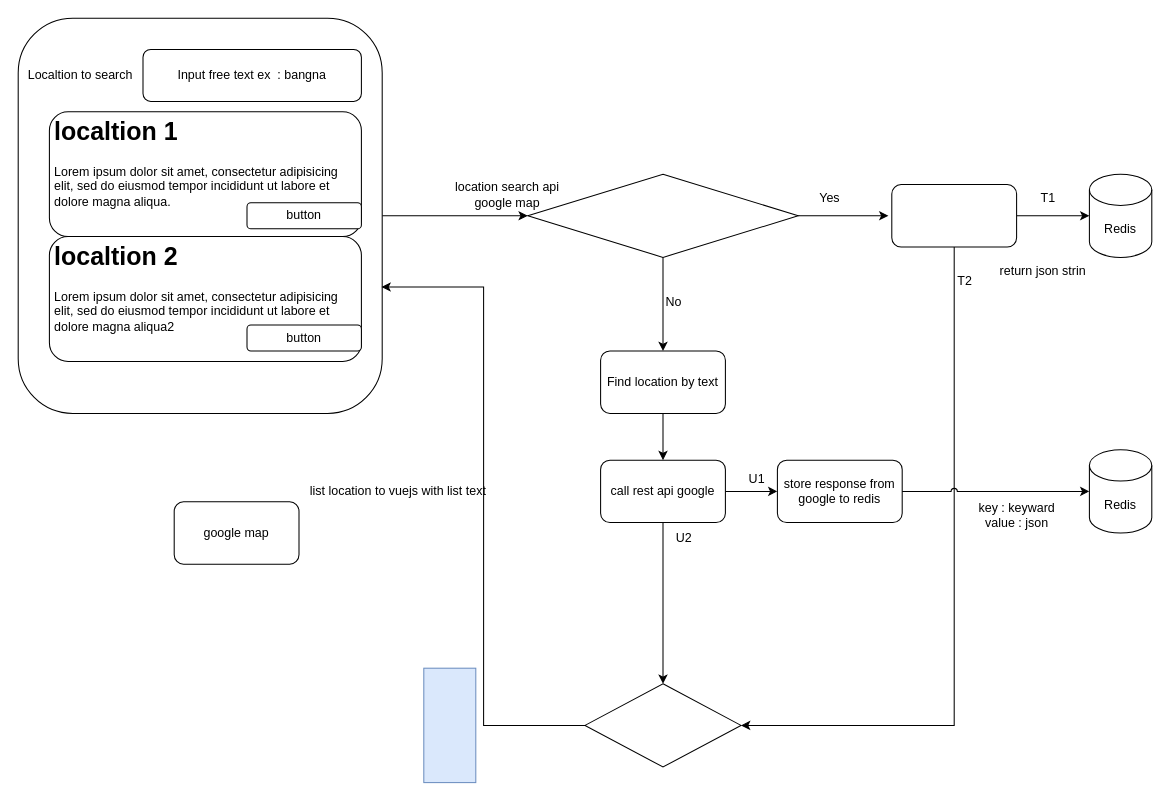
The diagram is 1170 pixels wide and 801 high, and some of its shapes have lost their labels. Here are the shapes that lost their labels. From the top down, the centre of each, then its label:
At (662,215): "find cache".
At (954,215): "get from redis by keyword".
At (449,725): "Json [ {} {} ; ]".
At (662,725): "respoonse".
